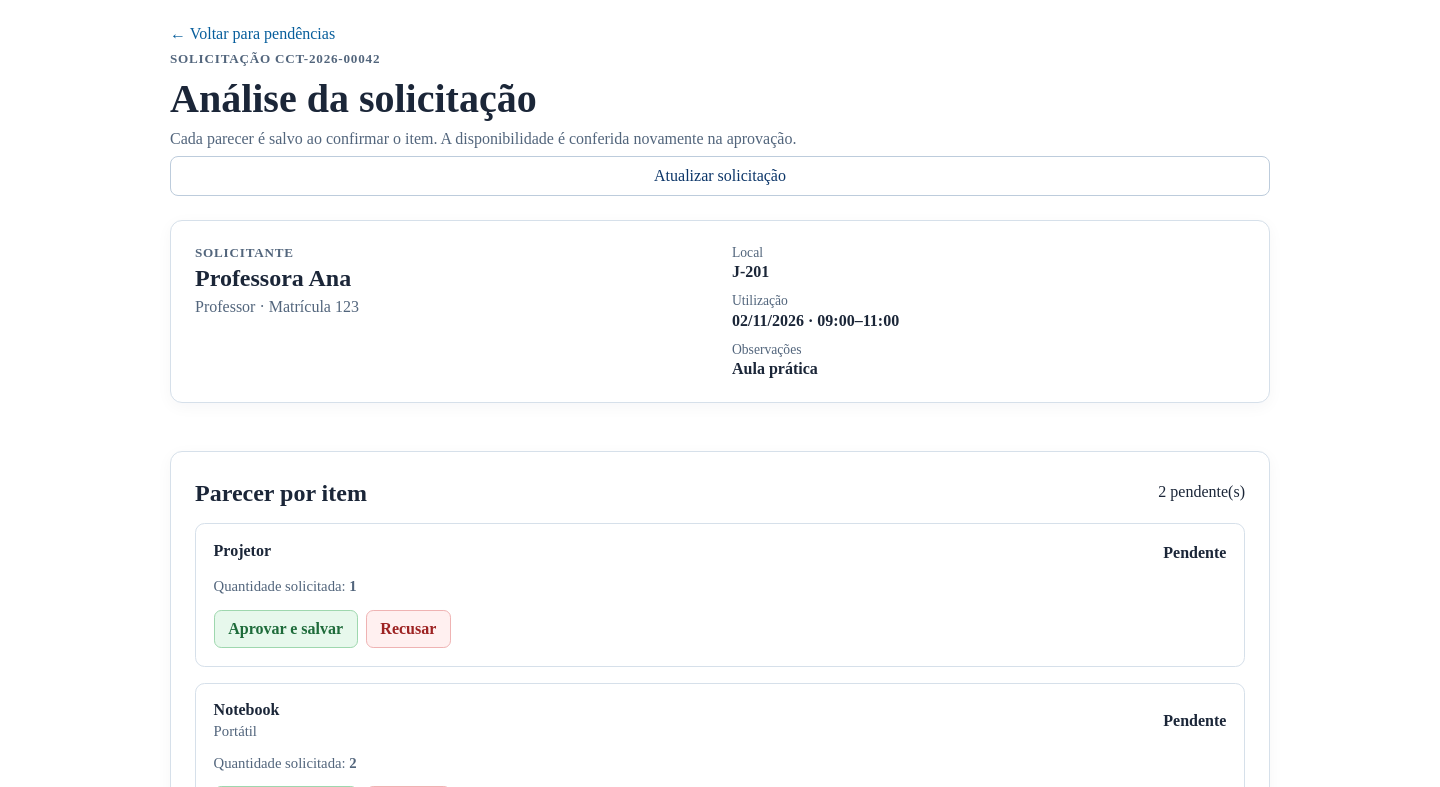
Test: Análise e gravação por item › não anuncia sucesso em conflito e exige releitura antes de outro envio
Click the button "Aprovar e salvar" below "Projetor" at (286, 629), box [214,610,358,648]
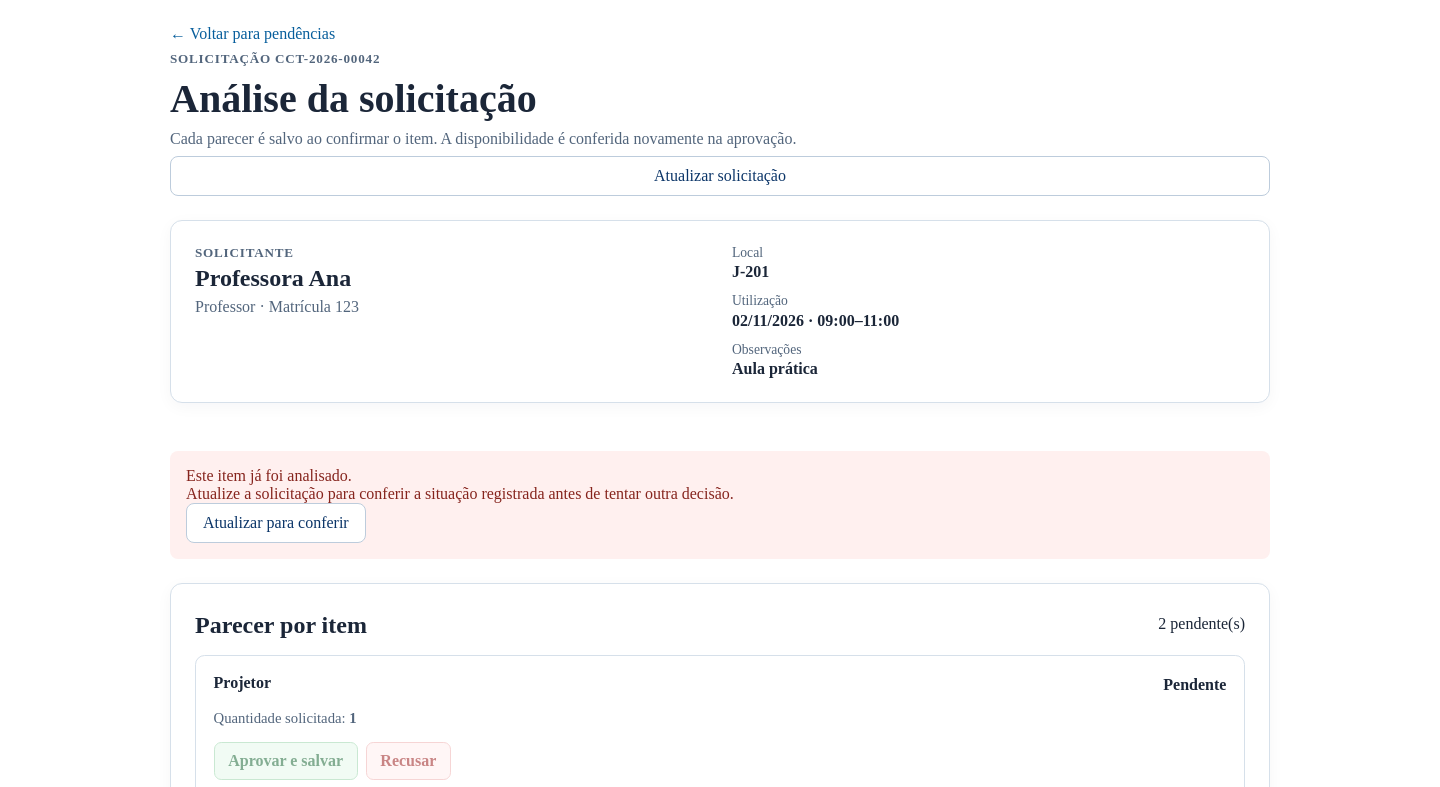
Result: the message shows "Este item já foi analisado." at [186,467,352,484]
Result: the button "Aprovar e salvar" is disabled at [214,742,358,780]
Click the button "Atualizar para conferir" at (276, 523), box [186,503,366,543]
(page scrolled)
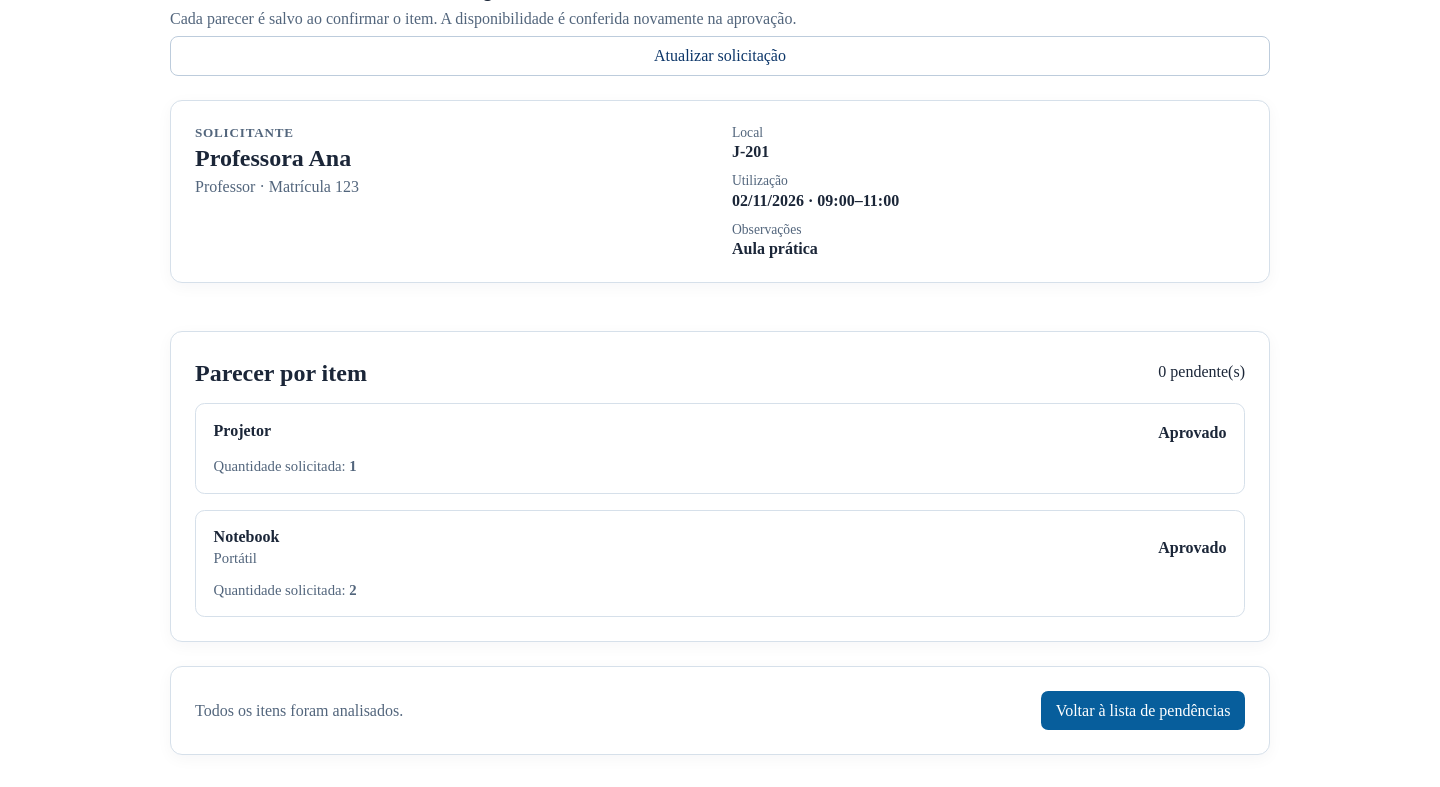
Result: the text "Todos os itens foram analisados." is shown at [195,702,403,720]
